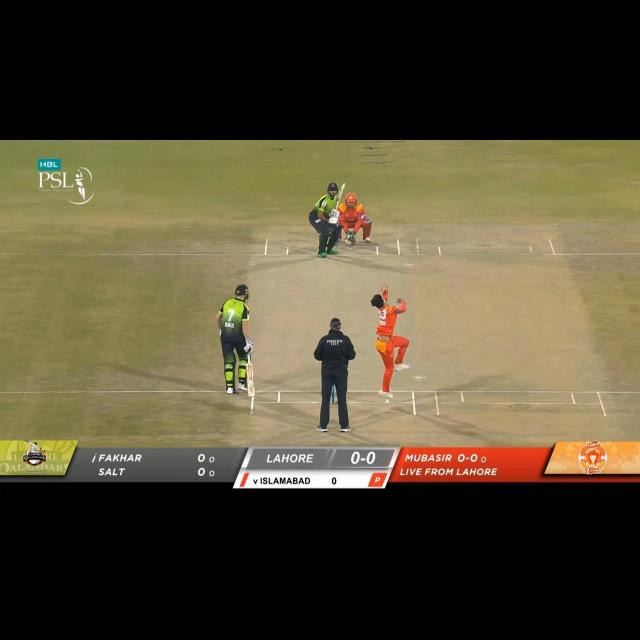bat: (246, 363, 256, 398), (334, 183, 346, 211)
toe: (246, 390, 256, 398), (339, 184, 346, 192)
